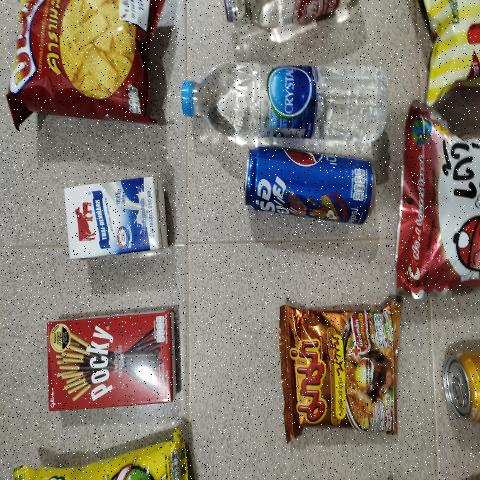crystal: (180, 59, 393, 140)
mama: (281, 306, 391, 429)
party_red: (11, 0, 162, 116)
pepsi_blue: (241, 151, 384, 229)
pokki: (45, 320, 179, 407)
thai_denmark: (58, 177, 174, 258)
